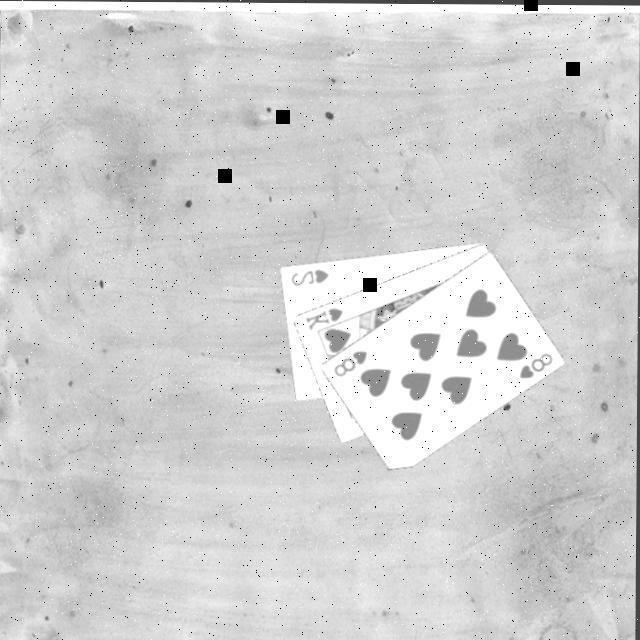2H: (290, 266, 334, 289)
8H: (518, 349, 558, 382), (332, 348, 372, 380)
KH: (304, 305, 348, 333)
